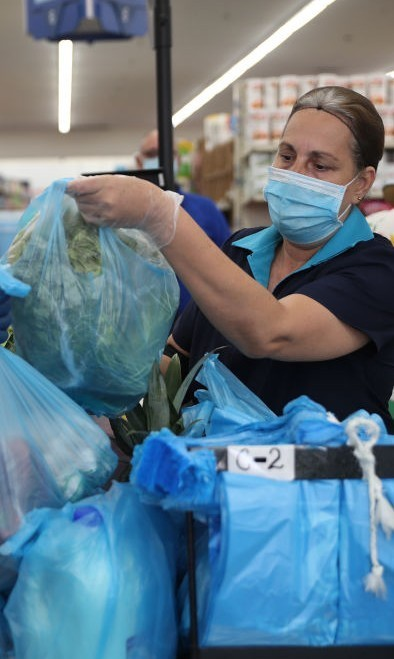with_mask: (258, 97, 385, 246)
